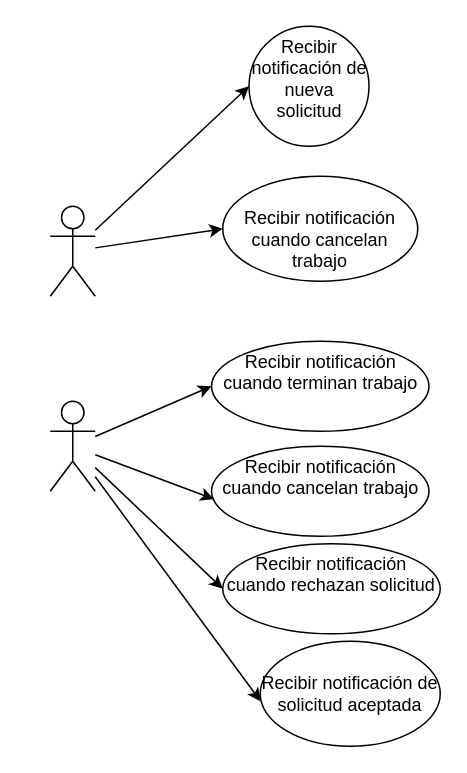
This 467x773 diagram has some shape labels left out. The shapes that lost their labels are listed below. From the top down, each one's centre as x and y in pixels, then its label:
(72,250): Trabajador
(72,445): Contratante
